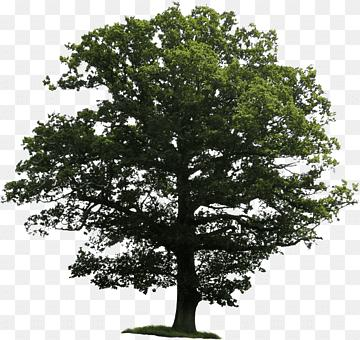tree: (3, 5, 360, 333)
